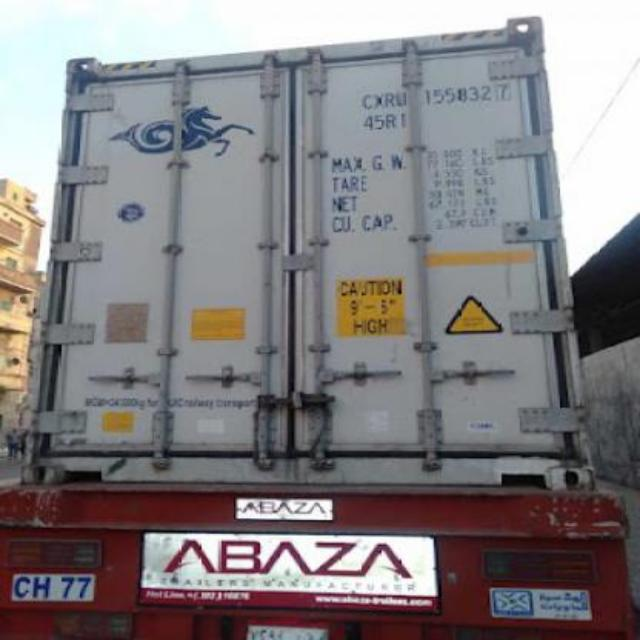1: (424, 89, 434, 107)
2: (481, 84, 494, 102)
3: (468, 86, 480, 104)
5: (432, 89, 444, 105), (446, 87, 456, 103)
7: (496, 84, 509, 100)
8: (458, 88, 468, 102)
C: (361, 93, 374, 111)
R: (384, 92, 396, 108)
U: (396, 90, 409, 106)
X: (374, 94, 384, 110)
